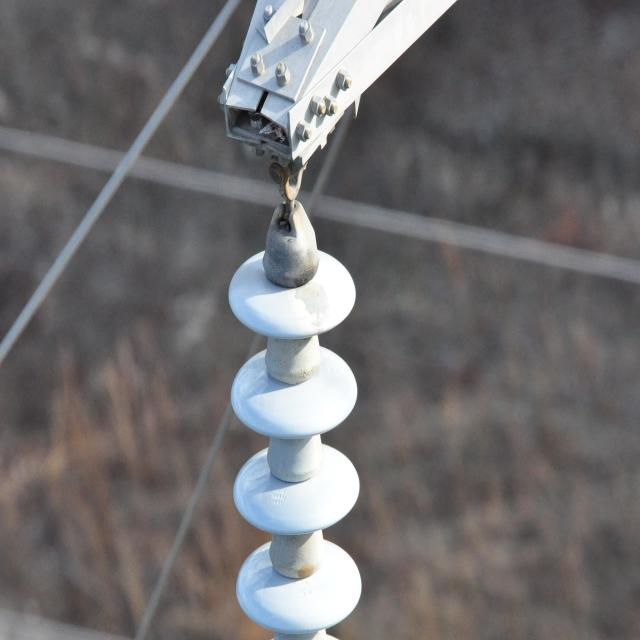insulator: (227, 248, 362, 630)
